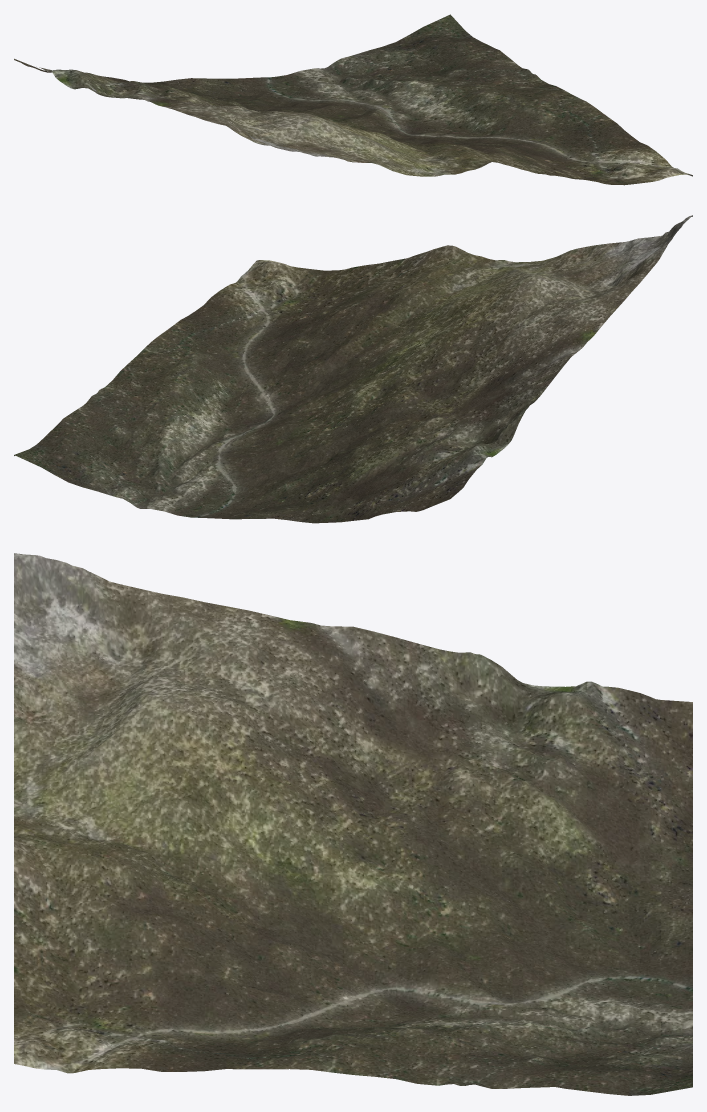
3 views of the same model, one above another, from view 1: azimuth 30°, elevation 25°; view 2: azimuth 150°, elevation 25°; view 3: azimuth 270°, elevation 25° (orthographic). The views are drawn at different scales.
Size of the model in its own units: 2000 by 846 by 1925.
1 material, 1 textured.
